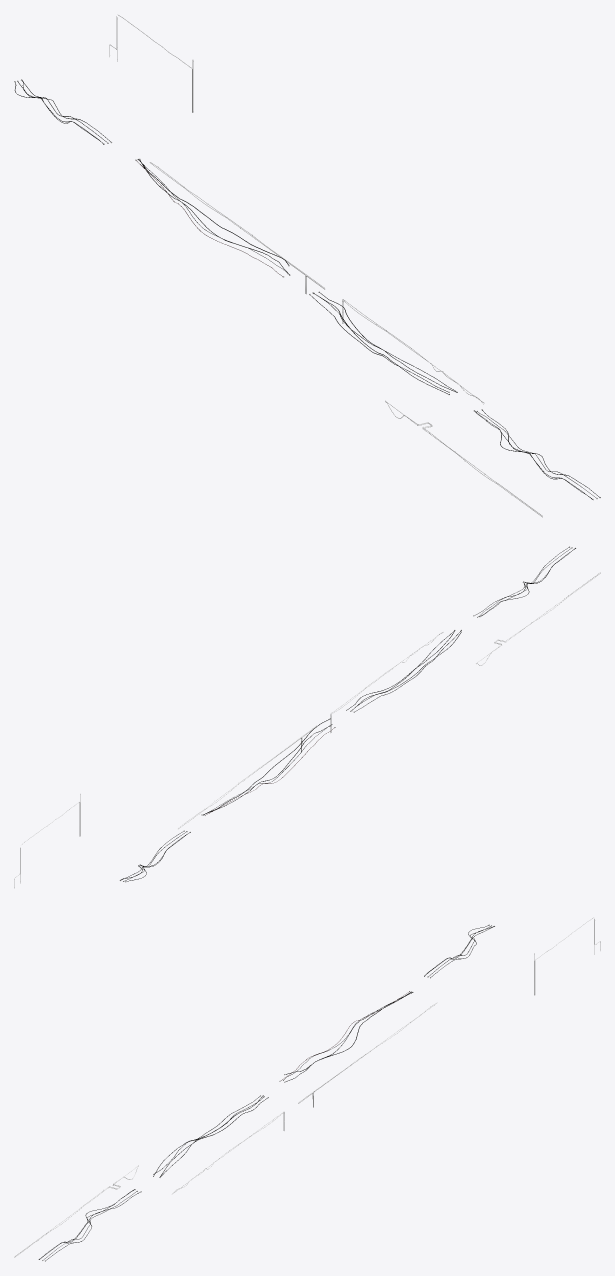
3 views of the same model, one above another, from view 1: azimuth 30°, elevation 25°; view 2: azimuth 150°, elevation 25°; view 3: azimuth 330°, elevation 25° (orthographic). The views are drawn at different scales.
Visible parts, largest first — view 1: SM_H_Building_FutureTech_AgainstWar_01a_Pipe_03; view 2: SM_H_Building_FutureTech_AgainstWar_01a_Pipe_03; view 3: SM_H_Building_FutureTech_AgainstWar_01a_Pipe_03.
Boxes of the visible parts, bbox=[...] form: SM_H_Building_FutureTech_AgainstWar_01a_Pipe_03: bbox=[14, 15, 600, 517]; SM_H_Building_FutureTech_AgainstWar_01a_Pipe_03: bbox=[14, 546, 600, 888]; SM_H_Building_FutureTech_AgainstWar_01a_Pipe_03: bbox=[14, 917, 600, 1261].
Size of the model in its own units: 2092 by 311 by 143.
